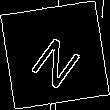N_NE: (24, 23, 86, 87)
